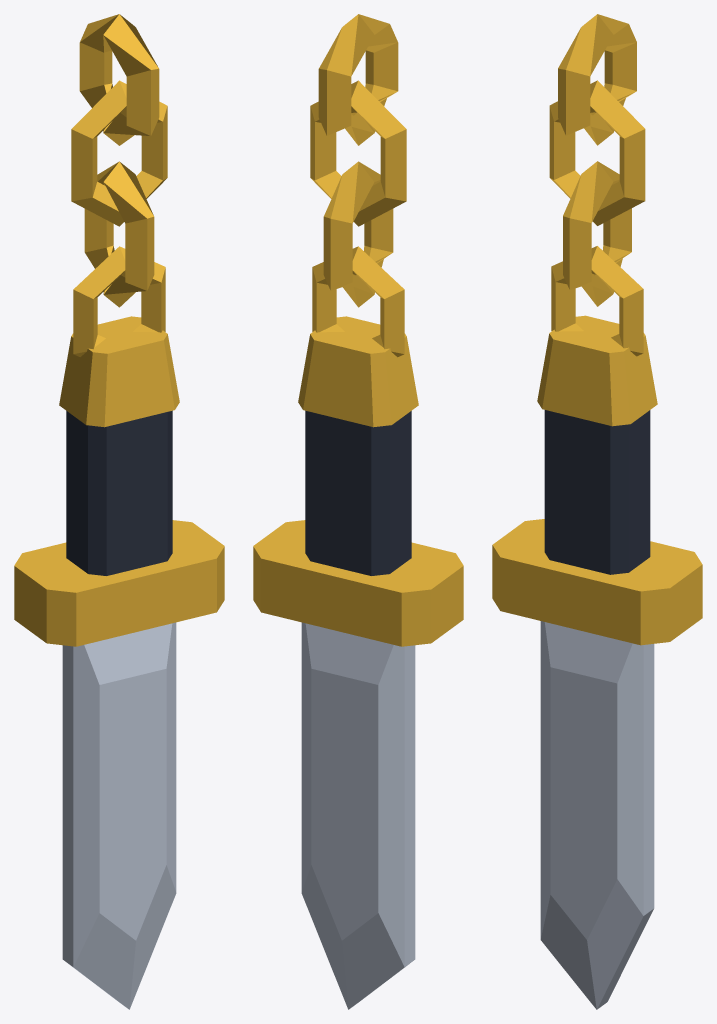
Rendered from MicroBlade.fbx.
3 renders of one model, left to right at view 1: azimuth 30°, elevation 25°; view 2: azimuth 150°, elevation 25°; view 3: azimuth 330°, elevation 25°, orthographic.
Parts seen in each view (by area): view 1: Body_Blade_Steel, Body_Blade_Gold, Chain, Body_Blade_Grip; view 2: Body_Blade_Steel, Body_Blade_Gold, Chain, Body_Blade_Grip; view 3: Body_Blade_Steel, Body_Blade_Gold, Chain, Body_Blade_Grip.
Part boxes in pixels (x1=…): Body_Blade_Steel: x1=62, y1=622, x2=176, y2=1009; Body_Blade_Gold: x1=14, y1=246, x2=224, y2=646; Chain: x1=71, y1=14, x2=167, y2=307; Body_Blade_Grip: x1=66, y1=410, x2=172, y2=575; Body_Blade_Steel: x1=301, y1=622, x2=415, y2=1009; Body_Blade_Gold: x1=253, y1=246, x2=463, y2=646; Chain: x1=310, y1=14, x2=406, y2=307; Body_Blade_Grip: x1=305, y1=410, x2=411, y2=575; Body_Blade_Steel: x1=540, y1=621, x2=654, y2=1009; Body_Blade_Gold: x1=492, y1=246, x2=702, y2=645; Chain: x1=549, y1=14, x2=645, y2=306; Body_Blade_Grip: x1=544, y1=410, x2=650, y2=574.
Bounding box in the file's own units: 0.076 × 0.4049 × 0.0466.
